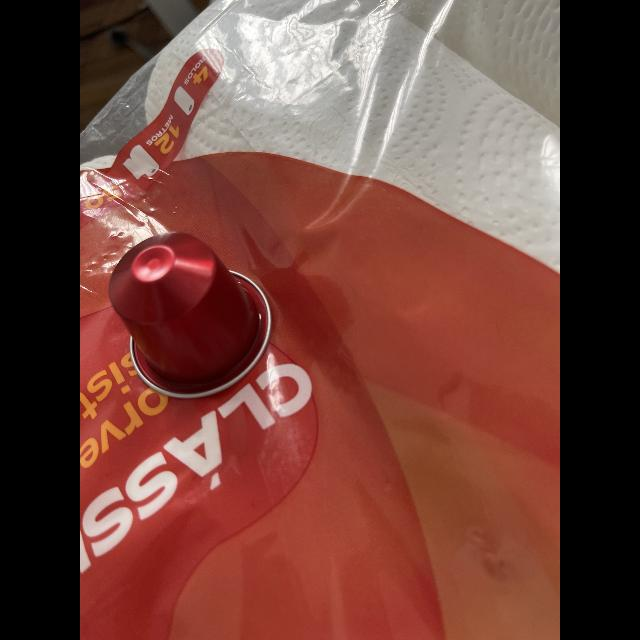intact_capsule: (96, 228, 288, 414)
